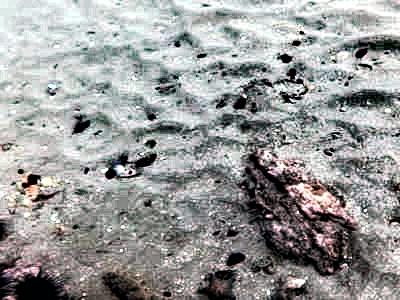urchin: (8, 267, 58, 296)
